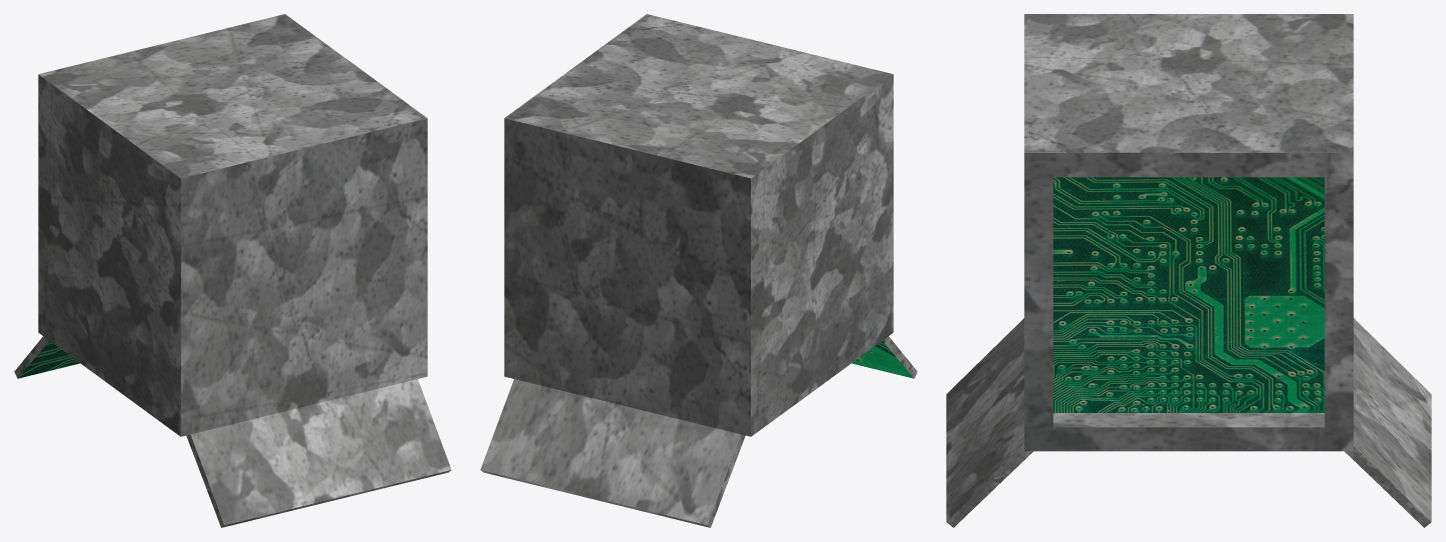
Rendered from Spawnbox.glb.
3 renders of one model, left to right at view 1: azimuth 30°, elevation 25°; view 2: azimuth 150°, elevation 25°; view 3: azimuth 270°, elevation 25°, orthographic. The views are drawn at different scales.
Parts seen in each view (by area): view 1: Cube; view 2: Cube; view 3: Cube.
Part boxes in pixels (box(x1,y1,x2,y2)): Cube: box(14, 14, 451, 527); Cube: box(480, 14, 917, 527); Cube: box(946, 14, 1431, 527).
Bounding box in the file's own units: 2 × 2.55 × 2.95.
Materials: 1 (1 with a texture image).
